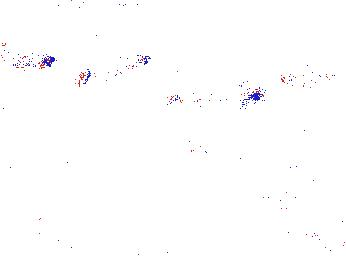X-ray fish: (137, 216, 163, 256)
glassfish: (176, 140, 265, 188)
red belly glassfish: (283, 65, 331, 86)
redtail glassfish: (74, 52, 152, 88), (34, 1, 149, 23), (1, 42, 57, 73), (167, 87, 240, 110)
